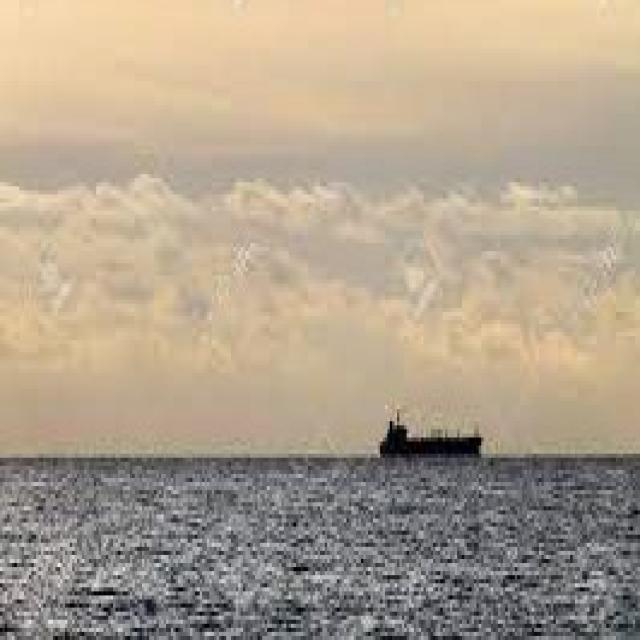cargoship: (372, 400, 494, 453)
